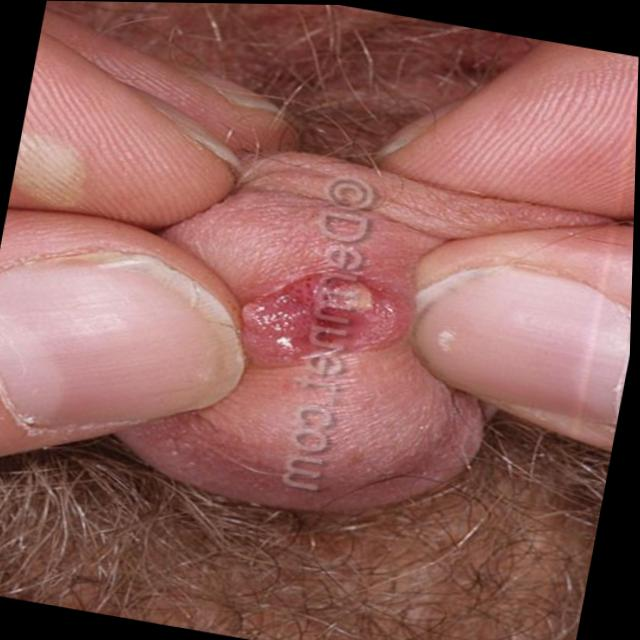Shingles: (221, 247, 389, 375)
